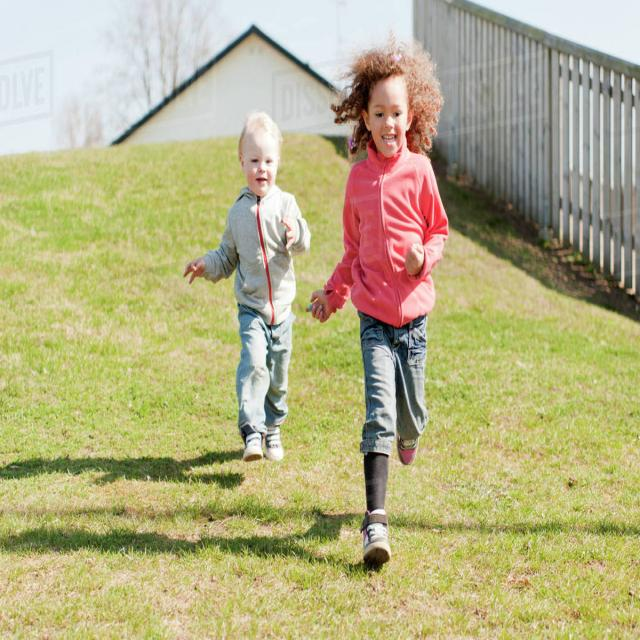Person: (304, 46, 448, 572), (182, 112, 312, 464)
